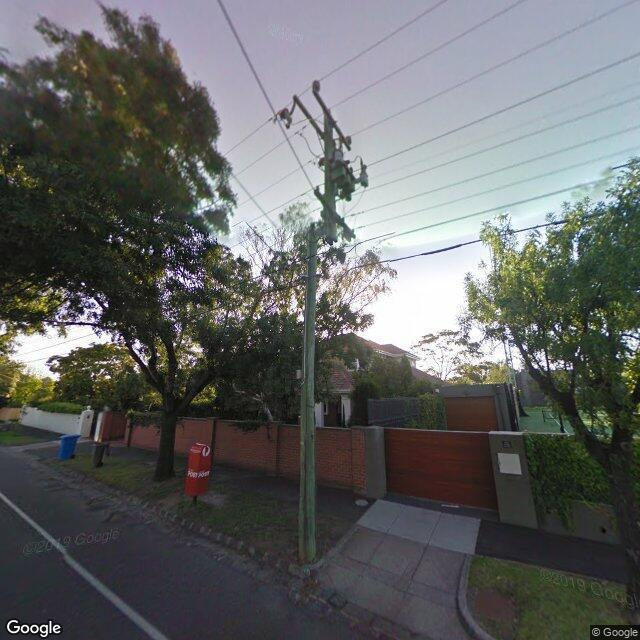HV-transmission: (281, 79, 352, 151)
crossarm: (313, 187, 356, 241), (314, 90, 351, 151), (292, 96, 324, 142)
timber-pole: (298, 117, 335, 562)
transformer: (331, 148, 369, 202)
